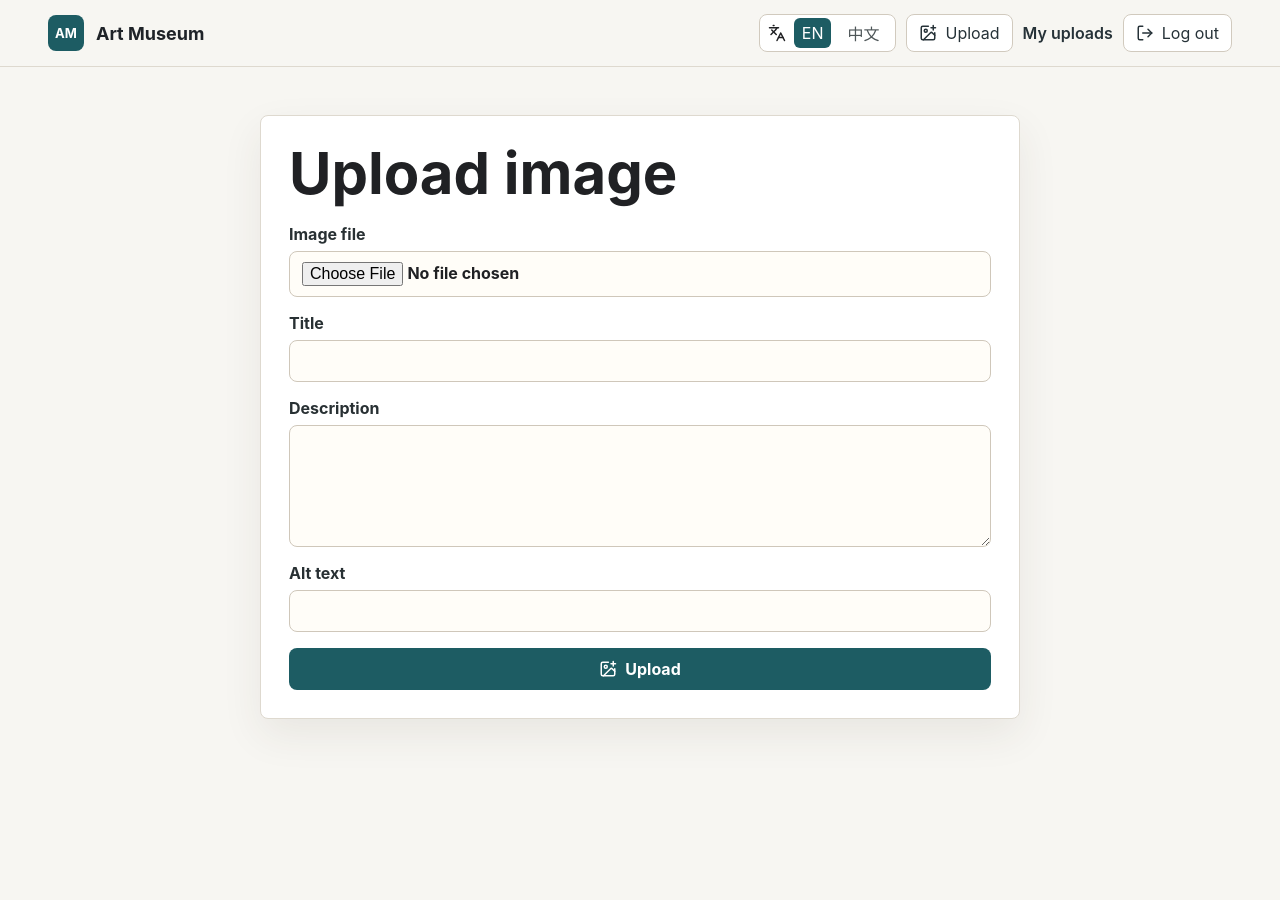
Scenario: Art Museum frontend › validates the upload form before submitting
Expected: the heading "Upload image" is shown, [289,138,677,208]
Click the button "Upload": click(640, 669) [289,648,991,690]
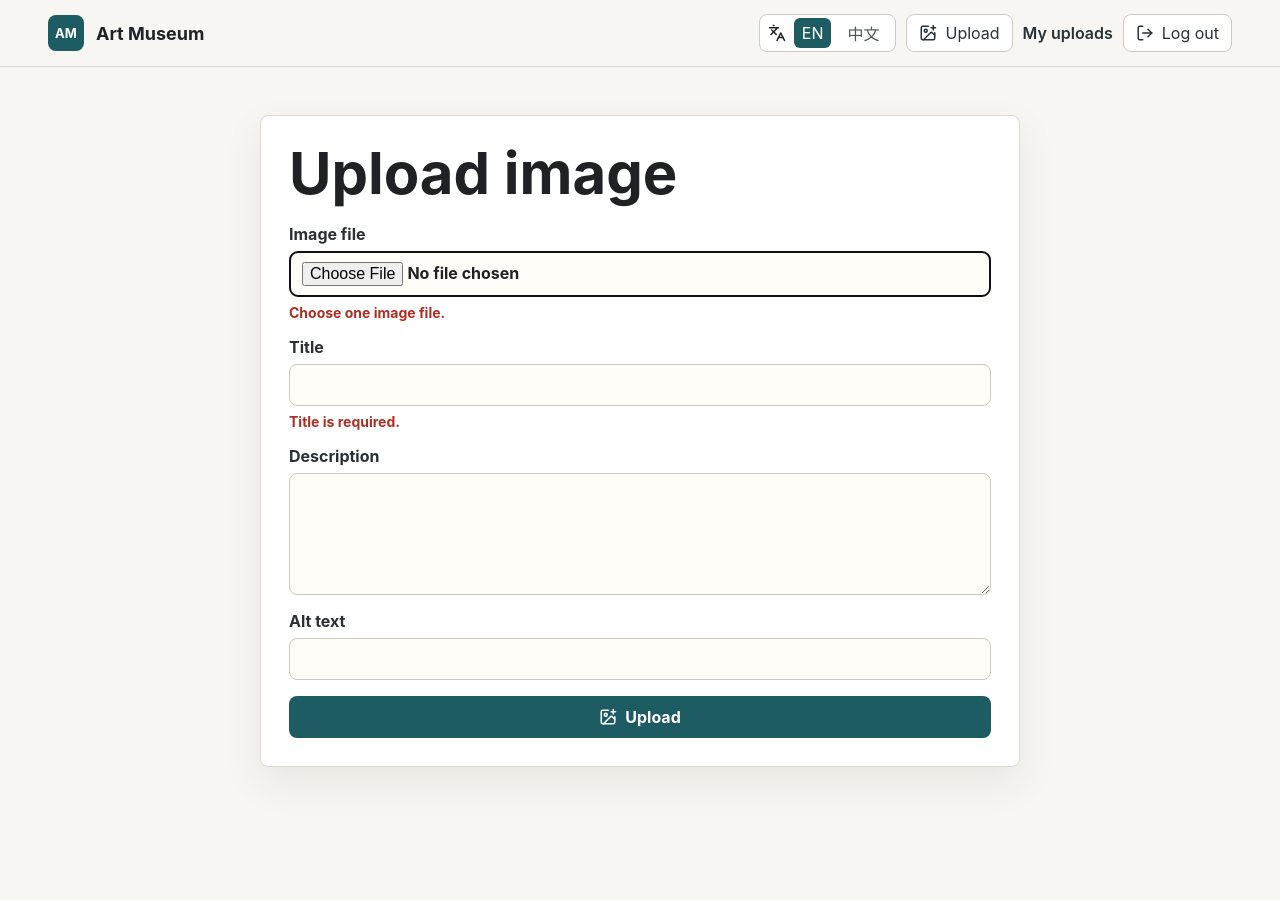
Result: the text "Title is required." is shown at [289,413,400,430]
Result: the text "Choose one image file." is shown at [289,304,445,321]
